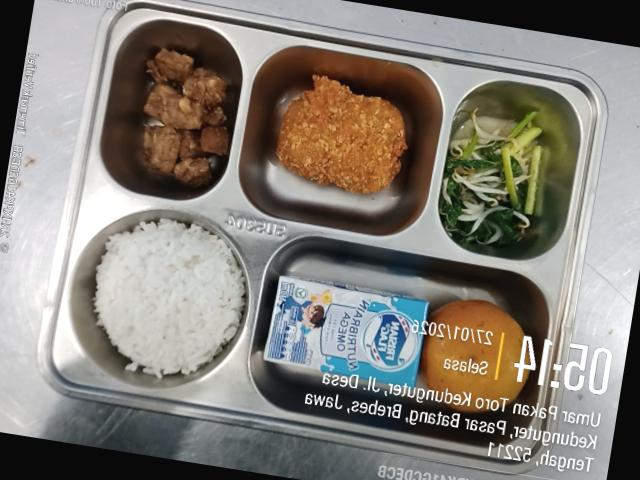buah: (420, 300, 523, 403)
nasi: (94, 219, 244, 378), (276, 75, 406, 194)
sayur: (501, 146, 519, 210)
susu: (264, 277, 429, 385)
tempe: (143, 84, 204, 129)
